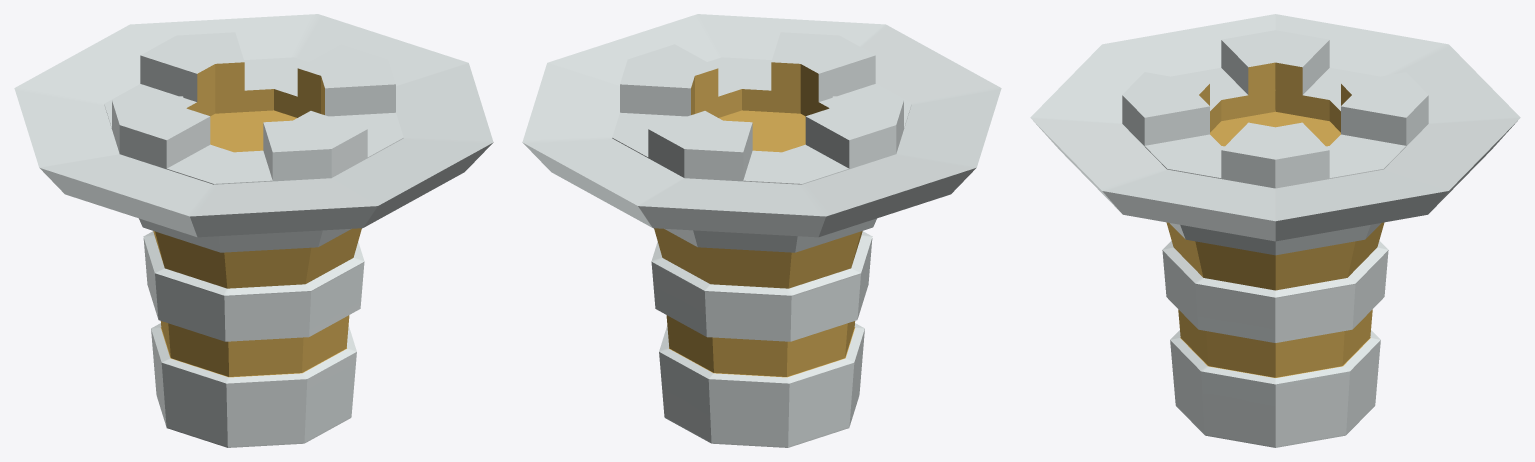
File: highTowerTop.fbx
3 renders of one model, left to right at view 1: azimuth 30°, elevation 25°; view 2: azimuth 150°, elevation 25°; view 3: azimuth 270°, elevation 25°, orthographic.
Parts seen in each view (by area): view 1: pCylinder1; view 2: pCylinder1; view 3: pCylinder1.
Boxes of the visible parts, left/top/right/bottom form: pCylinder1: left=14, top=14, right=493, bottom=447; pCylinder1: left=522, top=14, right=1001, bottom=447; pCylinder1: left=1030, top=14, right=1520, bottom=447.
Size of the model in its own units: 24.62 by 17.22 by 24.62.
Materials: 1 (1 with a texture image).
